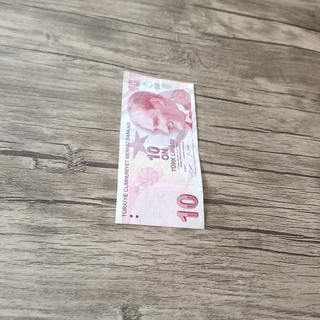10TLFront: (114, 68, 205, 230)
